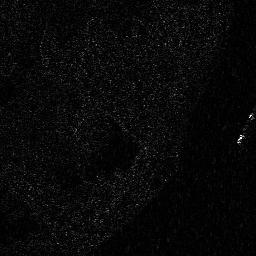ship: (235, 112, 255, 145)
